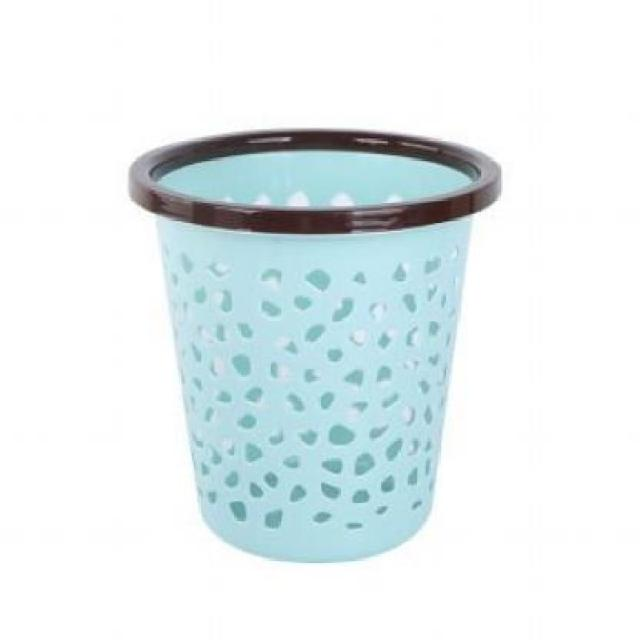dustbin: (123, 120, 507, 570)
